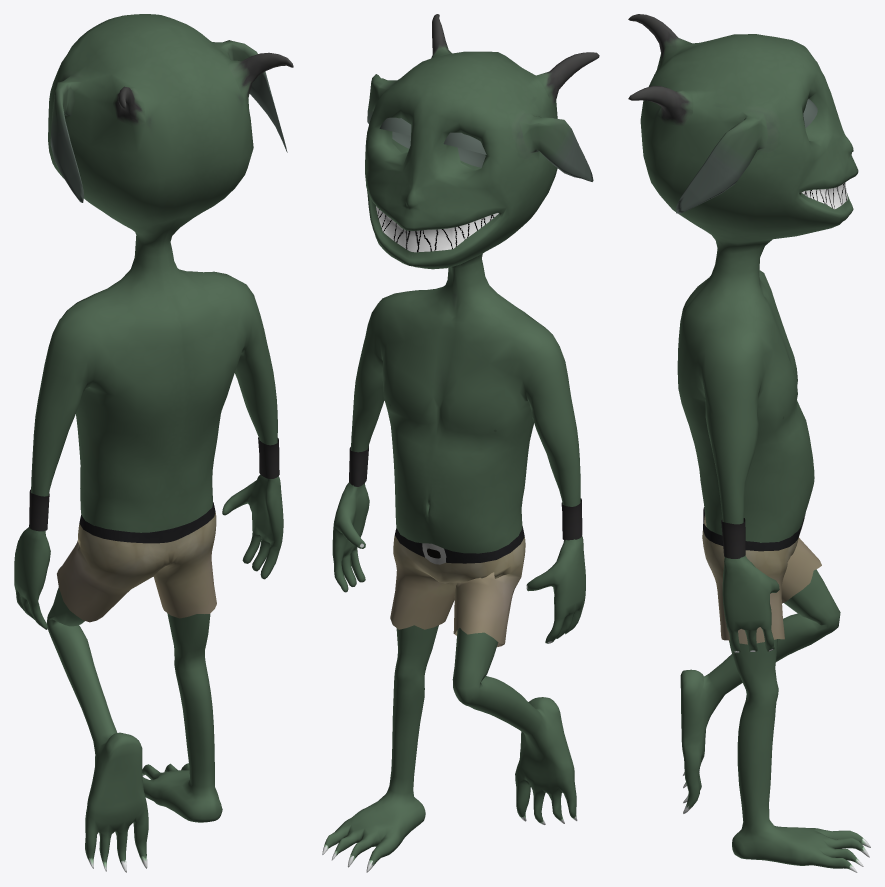
The model's file is lwjglcharactergoblin11_000010.obj.
3 renders of one model, left to right at view 1: azimuth 30°, elevation 25°; view 2: azimuth 150°, elevation 25°; view 3: azimuth 270°, elevation 25°, orthographic. The views are drawn at different scales.
Visible parts, largest first — view 1: Cube.002; view 2: Cube.002; view 3: Cube.002.
Boxes of the visible parts, box(x1,y1,x2,y2) form: Cube.002: box(14, 14, 293, 872); Cube.002: box(322, 14, 599, 872); Cube.002: box(628, 14, 870, 872).
Bounding box in the file's own units: 1.25 × 3.82 × 1.06.
